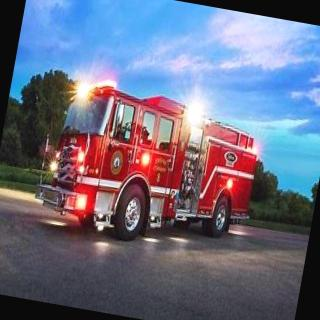Fire_truck: (29, 70, 268, 260)
